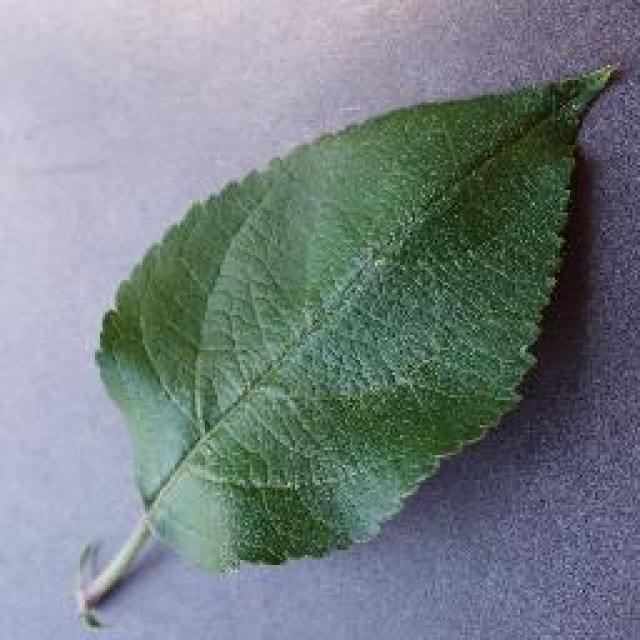apple scab disease: (72, 58, 620, 628)
